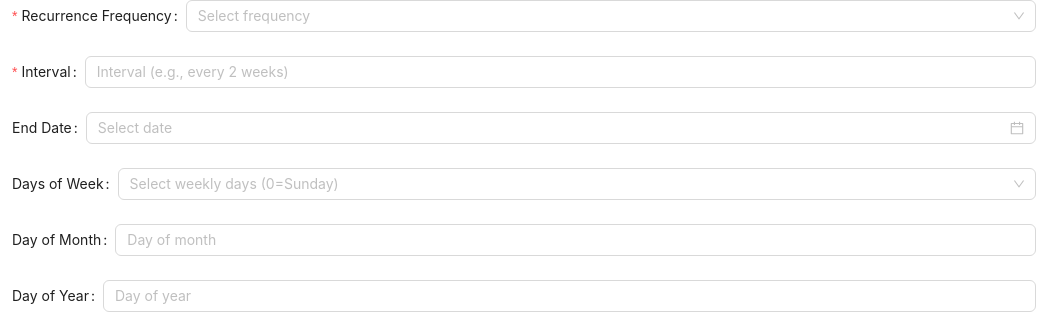
RecurringGoalFields › shows all frequency options
The width and height of the screenshot is (1048, 329).
Press the mouse on the dropdown labelled "Recurrence Frequency" at [97, 16], box [22, 7, 172, 24]
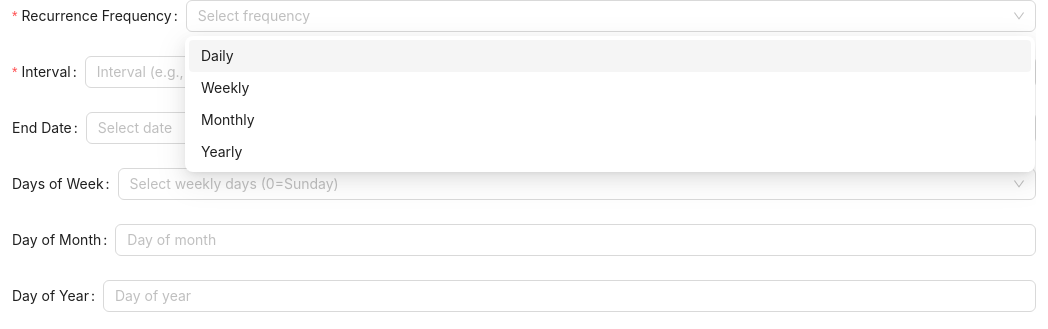
Now the text "Daily" is shown, box [201, 47, 234, 64]
Now the text "Weekly" is shown, box [201, 79, 249, 96]
Now the text "Monthly" is shown, box [201, 111, 254, 128]
